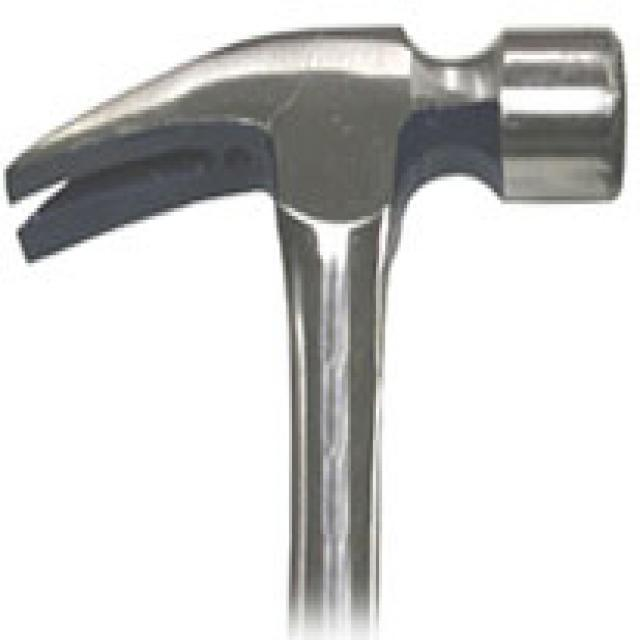hammer: (3, 8, 633, 640)
